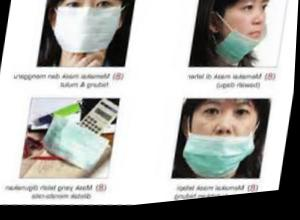OK: (50, 1, 127, 66)
WRONG: (182, 98, 262, 184), (224, 1, 272, 65)
